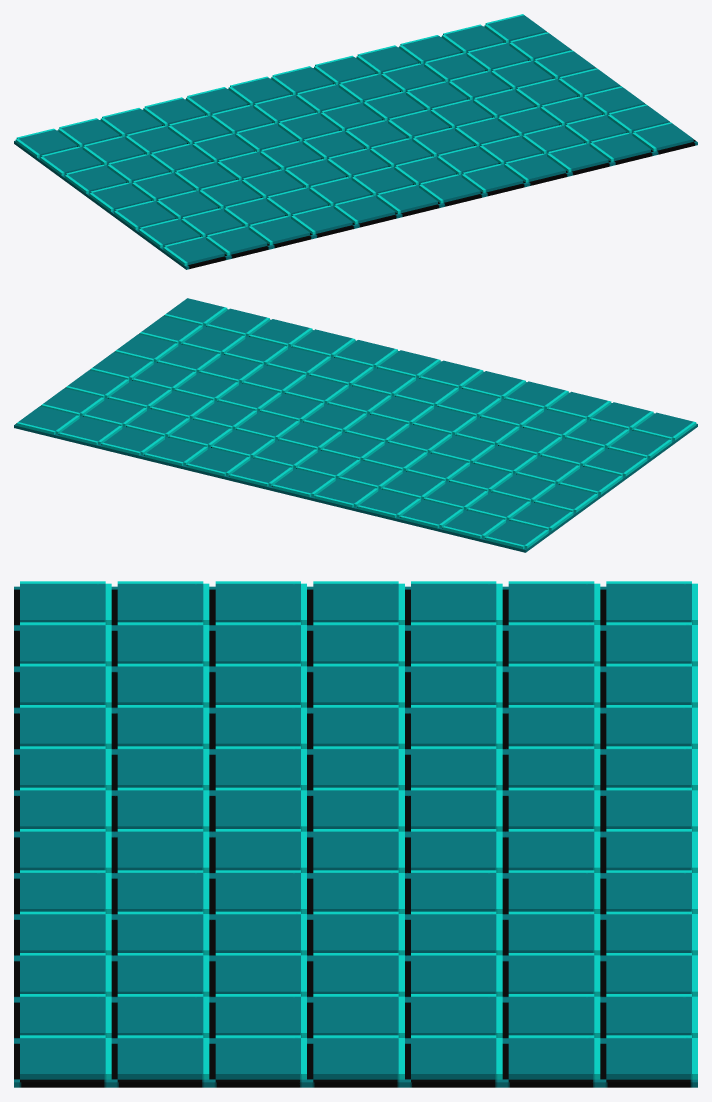
File: Floor.glb
3 views of the same model, one above another, from view 1: azimuth 30°, elevation 25°; view 2: azimuth 150°, elevation 25°; view 3: azimuth 270°, elevation 25° (orthographic). The views are drawn at different scales.
Parts seen in each view (by area): view 1: Floor; view 2: Floor; view 3: Floor.
Boxes of the visible parts, x1,y1,x2,y2 form: Floor: (14,14,697,269); Floor: (14,298,697,552); Floor: (14,581,697,1087).
Size of what is drawn, in the model's own units: 19.2 by 0.2 by 11.2.
Materials: 1 (1 with a texture image).
